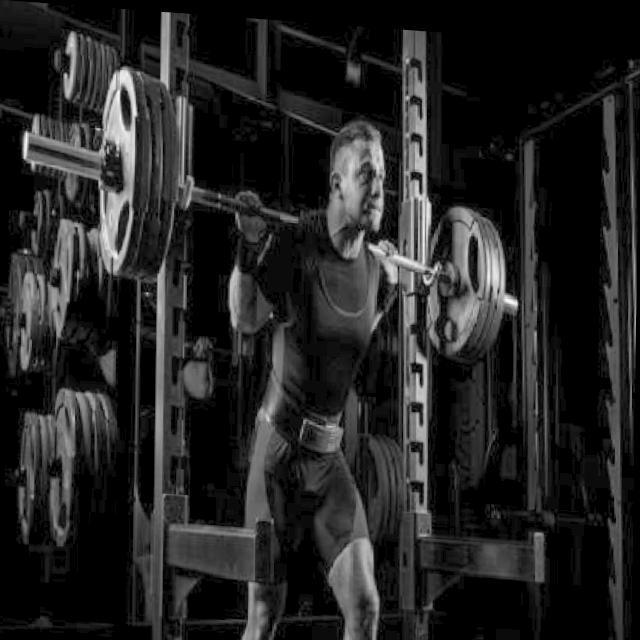barbell: (18, 54, 143, 284)
